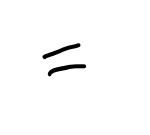eqv: (37, 40, 90, 78)
